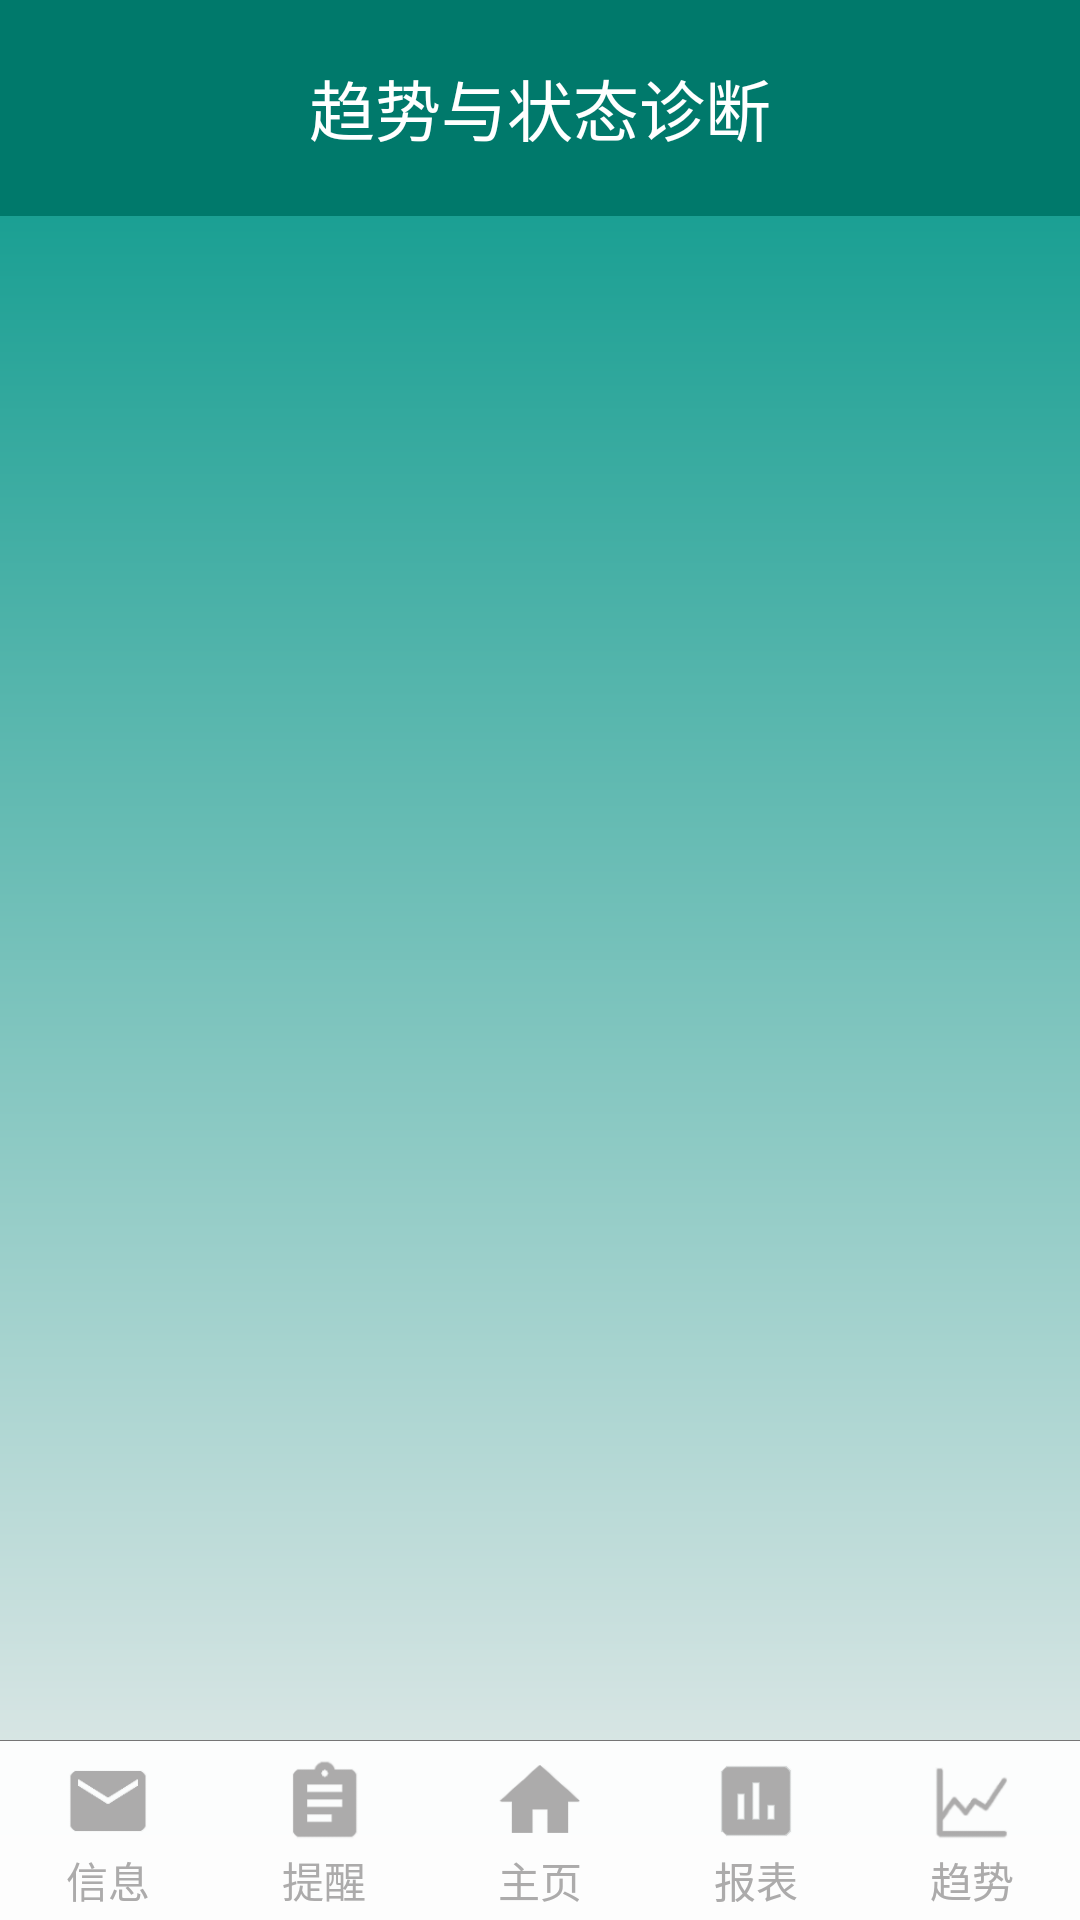

Named icons in this screenshot (1080px×1920px) and their centers, point (x, y):
chart: point (971, 1802)
notes: point (325, 1799)
